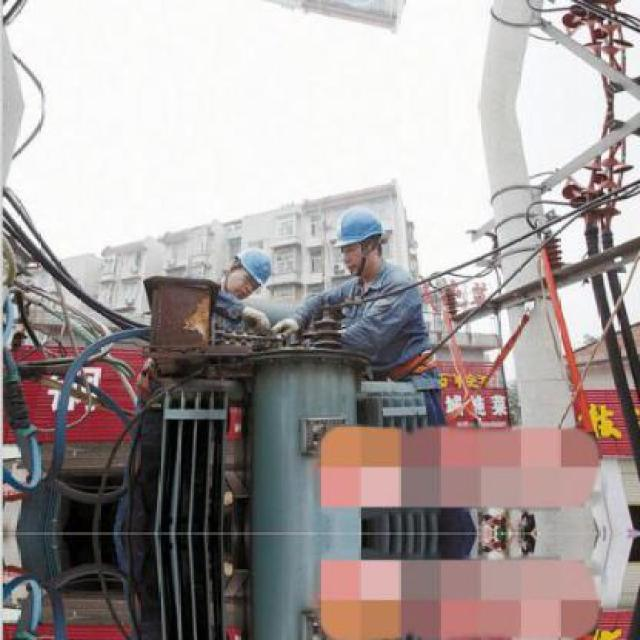helmet: (328, 202, 388, 278), (226, 243, 276, 298)
